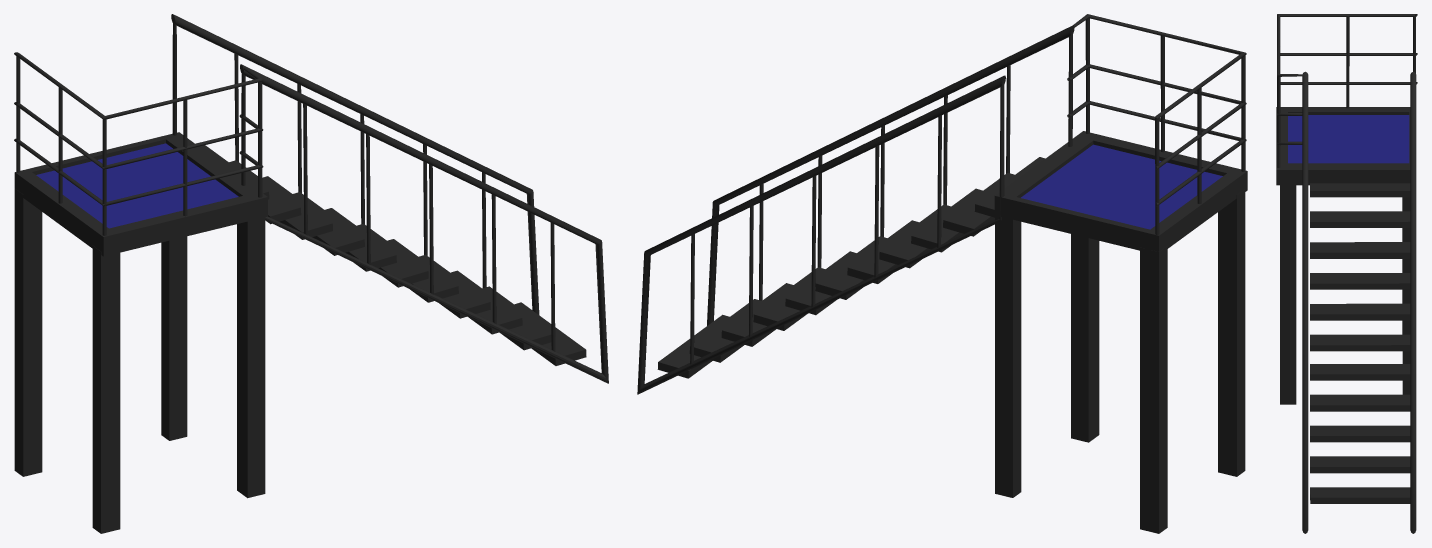
Rendered from TRAY_PLATFORM_TOP_1_V1.FBX.
3 renders of one model, left to right at view 1: azimuth 30°, elevation 25°; view 2: azimuth 150°, elevation 25°; view 3: azimuth 270°, elevation 25°, orthographic. The views are drawn at different scales.
Parts seen in each view (by area): view 1: TRAY_PLATFORM_TOP_1, Plane006; view 2: TRAY_PLATFORM_TOP_1, Plane006; view 3: TRAY_PLATFORM_TOP_1, Plane006.
Part boxes in pixels (x1,y1,x2,y2): TRAY_PLATFORM_TOP_1: (14,14,608,533); Plane006: (36,143,238,228); TRAY_PLATFORM_TOP_1: (637,14,1247,533); Plane006: (1021,144,1222,229); TRAY_PLATFORM_TOP_1: (1276,14,1417,533); Plane006: (1288,115,1409,163).
Size of the model in its own units: 160 by 123 by 47.73.
